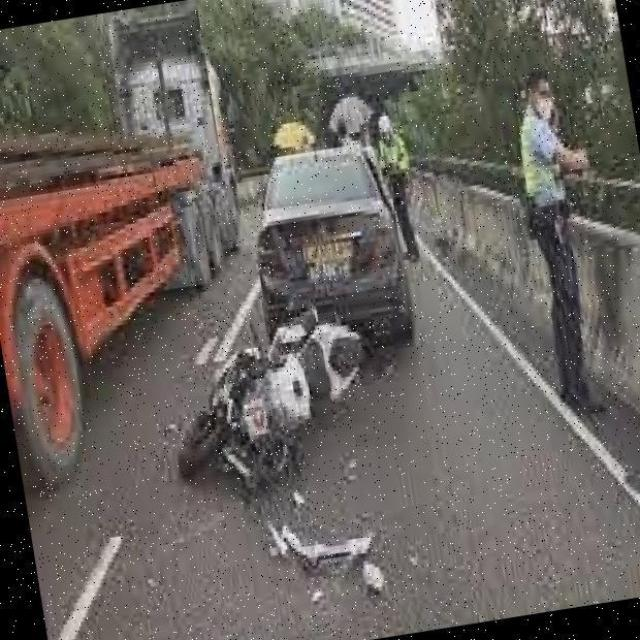accident: (169, 275, 447, 530)
